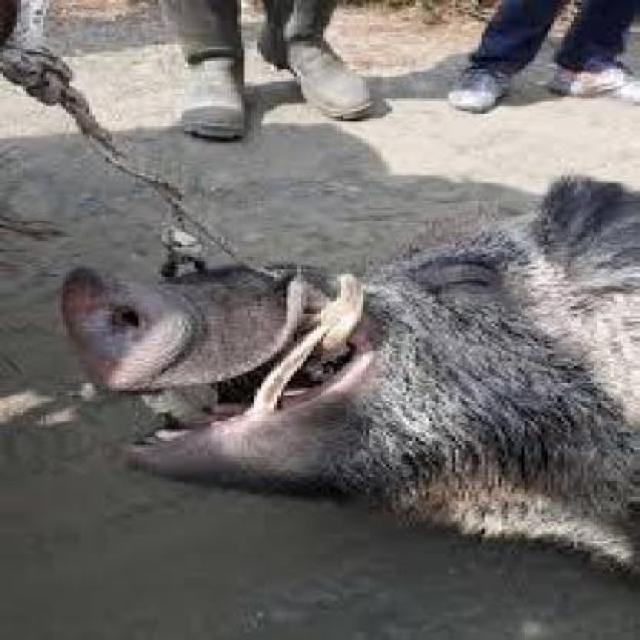wildboar: (49, 170, 640, 593)
